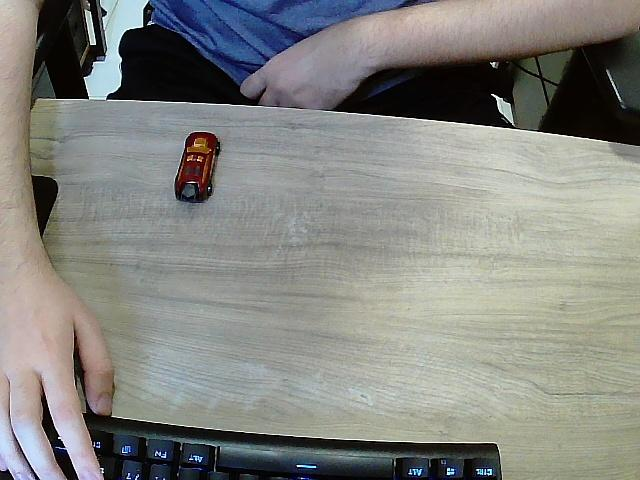Carro: (174, 133, 220, 204)
